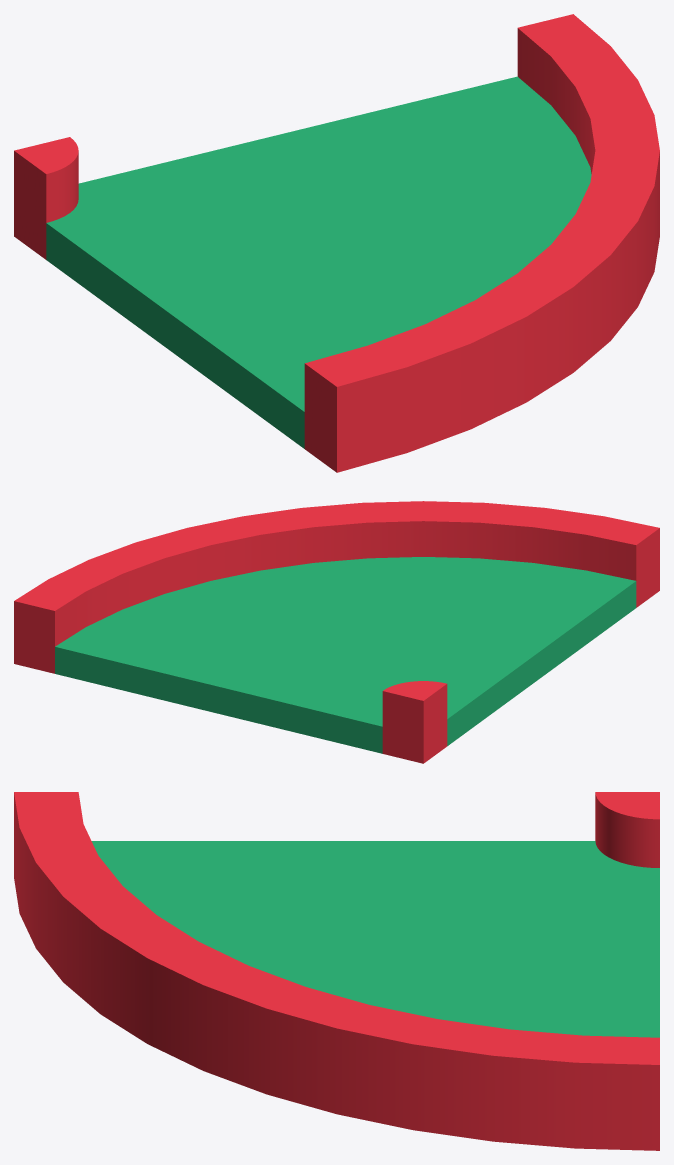
File: roundCornerA.fbx
3 renders of one model, top to bottom at view 1: azimuth 30°, elevation 25°; view 2: azimuth 150°, elevation 25°; view 3: azimuth 270°, elevation 25°, orthographic. The views are drawn at different scales.
Visible parts, largest first — view 1: roundCornerA; view 2: roundCornerA; view 3: roundCornerA.
Part boxes in pixels (x1,y1,x2,y2): roundCornerA: (14,14,659,472); roundCornerA: (14,501,659,763); roundCornerA: (14,792,659,1150).
Bounding box in the file's own units: 10 × 1.47 × 10.
